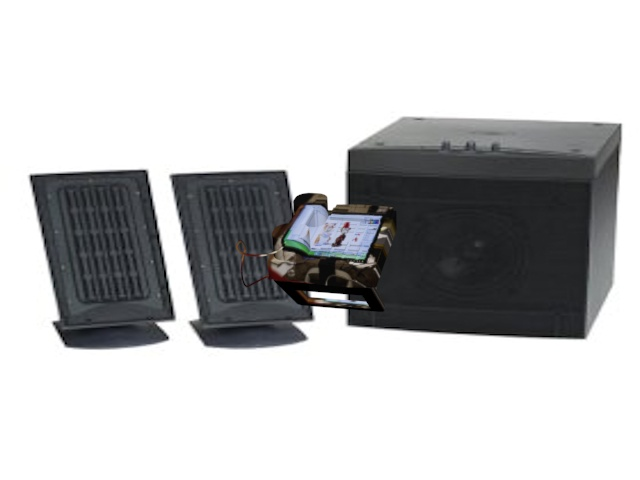phone: (225, 192, 400, 320)
